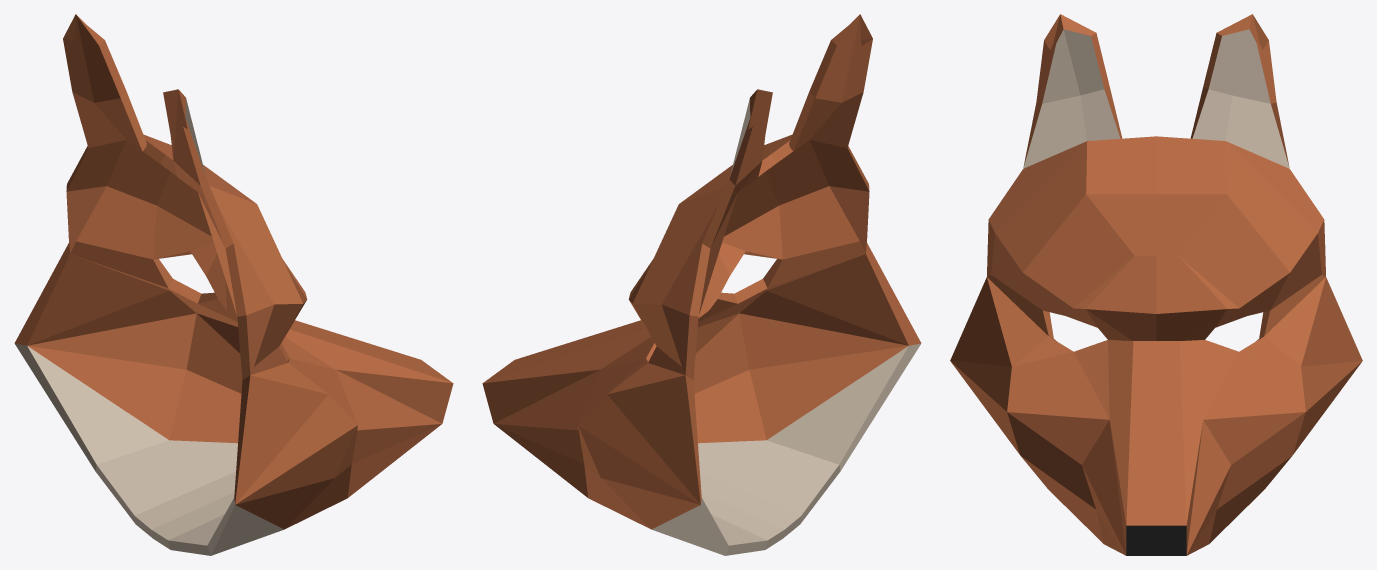
Rendered from mask_renard.fbx.
3 views of the same model, side by side, from view 1: azimuth 30°, elevation 25°; view 2: azimuth 150°, elevation 25°; view 3: azimuth 270°, elevation 25° (orthographic). The views are drawn at different scales.
Parts seen in each view (by area): view 1: mask_renard; view 2: mask_renard; view 3: mask_renard.
Boxes of the visible parts, left/top/right/bottom form: mask_renard: left=14, top=14, right=453, bottom=555; mask_renard: left=482, top=14, right=921, bottom=555; mask_renard: left=950, top=14, right=1362, bottom=555.
Size of the model in its own units: 0.6725 by 1.01 by 0.8176.
